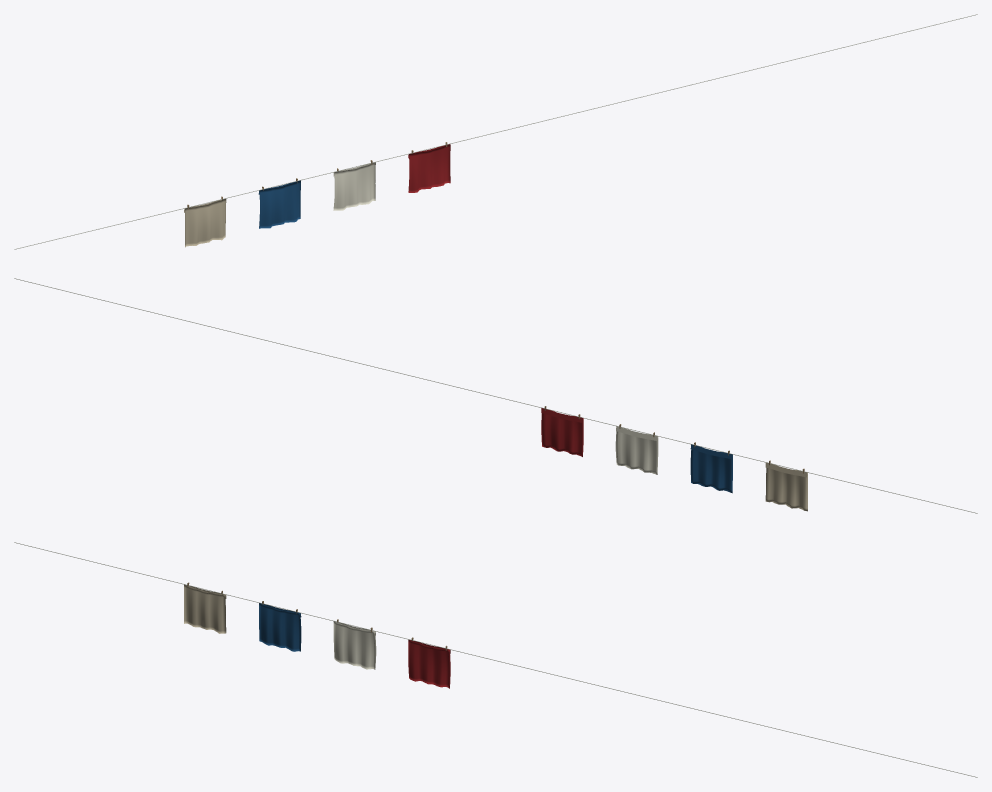
The model's file is varal_roupas_realista.glb.
3 renders of one model, top to bottom at view 1: azimuth 30°, elevation 25°; view 2: azimuth 150°, elevation 25°; view 3: azimuth 330°, elevation 25°, orthographic.
Parts seen in each view (by area): view 1: Pano pendurado 4, Pano pendurado 3, Pano pendurado 2, Pano pendurado 1, Varal; view 2: Pano pendurado 3, Pano pendurado 4, Pano pendurado 2, Pano pendurado 1, Varal; view 3: Pano pendurado 3, Pano pendurado 4, Pano pendurado 2, Pano pendurado 1, Varal.
Part boxes in pixels (x1,y1,x2,y2): Pano pendurado 4: [408, 144, 450, 192]; Pano pendurado 3: [333, 162, 375, 210]; Pano pendurado 2: [259, 180, 300, 228]; Pano pendurado 1: [185, 198, 226, 247]; Varal: [14, 14, 977, 249]; Pano pendurado 3: [615, 428, 658, 474]; Pano pendurado 4: [541, 410, 583, 456]; Pano pendurado 2: [690, 446, 732, 493]; Pano pendurado 1: [765, 464, 807, 511]; Varal: [14, 278, 977, 513]; Pano pendurado 3: [333, 621, 376, 669]; Pano pendurado 4: [408, 640, 450, 688]; Pano pendurado 2: [259, 603, 301, 651]; Pano pendurado 1: [184, 584, 226, 633]; Varal: [14, 542, 977, 777].
Bounding box in the file's own units: 11.6 × 0.4857 × 0.0522.
Materials: 7 (4 with a texture image).
